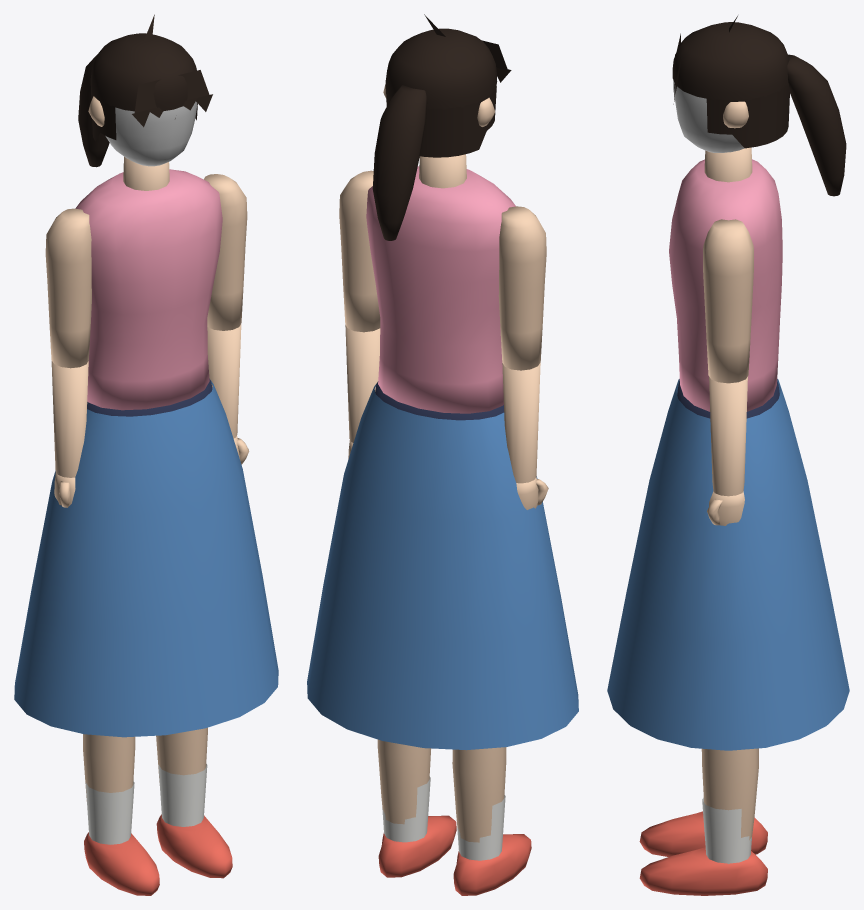
The model's file is sister.glb.
The picture shows the model from 3 angles, left to right: view 1: azimuth 30°, elevation 25°; view 2: azimuth 150°, elevation 25°; view 3: azimuth 270°, elevation 25°; orthographic projection. The views are drawn at different scales.
Visible parts, largest first — view 1: hips, torso, head, shinR, shinL, armR, armL, foreR, foreL; view 2: hips, torso, head, shinR, shinL, armR, armL, foreR, foreL; view 3: hips, head, torso, shinL, armL, foreL, shinR.
Boxes of the visible parts, left/top/right/bottom form: hips: left=14, top=378, right=278, bottom=737; torso: left=75, top=156, right=222, bottom=410; head: left=78, top=14, right=212, bottom=167; shinR: left=83, top=734, right=159, bottom=895; shinL: left=156, top=727, right=232, bottom=878; armR: left=45, top=208, right=91, bottom=368; armL: left=204, top=174, right=247, bottom=330; foreR: left=51, top=361, right=88, bottom=507; foreL: left=207, top=324, right=249, bottom=464; hips: left=307, top=381, right=578, bottom=750; torso: left=366, top=154, right=515, bottom=413; head: left=372, top=14, right=511, bottom=240; shinR: left=452, top=747, right=531, bottom=895; shinL: left=377, top=739, right=456, bottom=877; armR: left=498, top=206, right=546, bottom=370; armL: left=339, top=170, right=380, bottom=332; foreR: left=502, top=362, right=548, bottom=509; foreL: left=345, top=325, right=380, bottom=458; hips: left=607, top=379, right=849, bottom=750; head: left=672, top=16, right=846, bottom=196; torso: left=669, top=147, right=782, bottom=411; shinL: left=639, top=748, right=767, bottom=895; armL: left=703, top=219, right=753, bottom=383; foreL: left=707, top=376, right=747, bottom=525; shinR: left=639, top=811, right=767, bottom=856.
Size of the model in its own units: 0.3888 by 1.3 by 0.3312.
